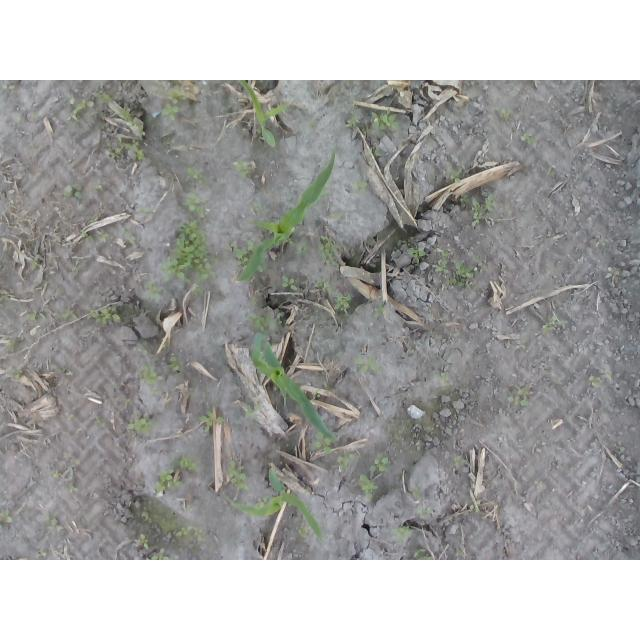Maize: (238, 150, 336, 282), (250, 331, 339, 443), (224, 466, 324, 544), (238, 80, 291, 148)
Weeds: (160, 219, 218, 282), (443, 254, 485, 291), (227, 241, 265, 274), (460, 192, 496, 225), (107, 136, 146, 161), (117, 105, 146, 135), (68, 98, 95, 126), (226, 461, 251, 491), (318, 235, 340, 267), (154, 468, 182, 493), (87, 305, 122, 324), (372, 108, 400, 130), (356, 473, 378, 500), (182, 194, 205, 219), (250, 314, 283, 331), (128, 415, 157, 434), (199, 410, 224, 432), (507, 385, 529, 408), (138, 364, 162, 385), (313, 430, 332, 454), (542, 315, 567, 333), (170, 454, 198, 470), (356, 357, 380, 375), (370, 452, 391, 472), (337, 449, 355, 471), (144, 281, 164, 300), (233, 159, 253, 178), (176, 525, 203, 539), (393, 525, 412, 544), (169, 85, 188, 104), (187, 167, 205, 186), (406, 248, 426, 265), (161, 103, 179, 121), (65, 184, 83, 201), (352, 177, 368, 196), (244, 403, 260, 421), (315, 278, 334, 293), (392, 235, 413, 248), (281, 274, 298, 290), (334, 294, 351, 310), (414, 548, 434, 561), (150, 548, 170, 561), (43, 514, 59, 530), (168, 357, 185, 372), (447, 166, 462, 183), (432, 259, 449, 273), (0, 509, 12, 528), (296, 240, 309, 257), (123, 229, 137, 244), (96, 92, 113, 103), (189, 282, 203, 295), (308, 114, 319, 130), (62, 309, 78, 320), (139, 534, 149, 551), (417, 506, 431, 518), (137, 341, 149, 355), (346, 116, 360, 128), (375, 303, 386, 318), (589, 375, 601, 388), (253, 497, 267, 508), (82, 229, 93, 243), (520, 133, 534, 144), (454, 456, 466, 468), (297, 526, 308, 539), (97, 230, 108, 243), (137, 205, 151, 215), (469, 500, 479, 513), (31, 254, 39, 270), (436, 248, 450, 257), (96, 417, 107, 428), (437, 373, 449, 383), (515, 339, 527, 349), (26, 312, 38, 321), (96, 178, 105, 190), (163, 136, 175, 145), (595, 239, 608, 247), (501, 107, 511, 117), (609, 267, 620, 276), (412, 487, 421, 497), (14, 368, 23, 378), (252, 201, 261, 211), (69, 484, 79, 493), (53, 470, 62, 479), (372, 150, 381, 159), (151, 387, 160, 396), (185, 504, 194, 513), (331, 213, 344, 219), (3, 83, 16, 89), (547, 168, 555, 177), (605, 370, 612, 380), (37, 551, 48, 557), (312, 391, 320, 399), (323, 382, 330, 391), (73, 266, 80, 275), (90, 216, 98, 223), (0, 293, 8, 300), (124, 397, 132, 403), (453, 404, 459, 412), (284, 238, 293, 243), (361, 129, 367, 136), (253, 297, 259, 303), (395, 175, 400, 181)
